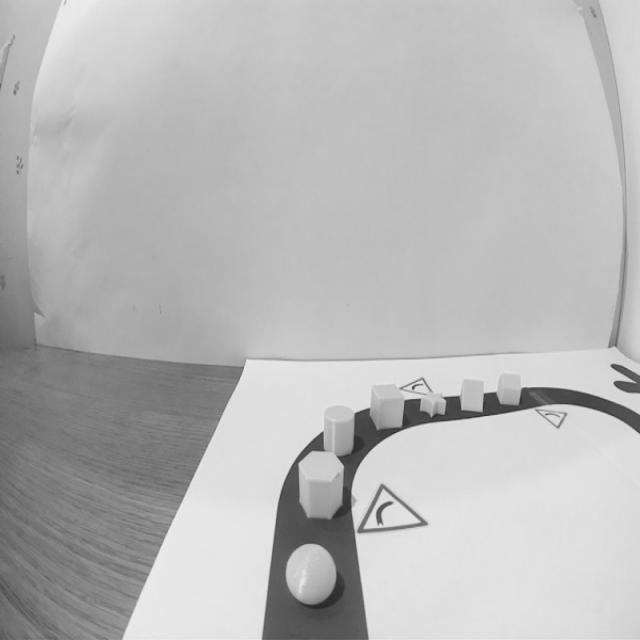ball: (283, 537, 340, 610)
cube: (368, 380, 407, 436)
cylinder: (322, 402, 358, 460)
hexagon: (295, 447, 347, 524)
home: (496, 369, 524, 410)
rightTurn: (346, 469, 433, 541)
star: (418, 388, 447, 422)
triangle: (458, 372, 487, 419)
